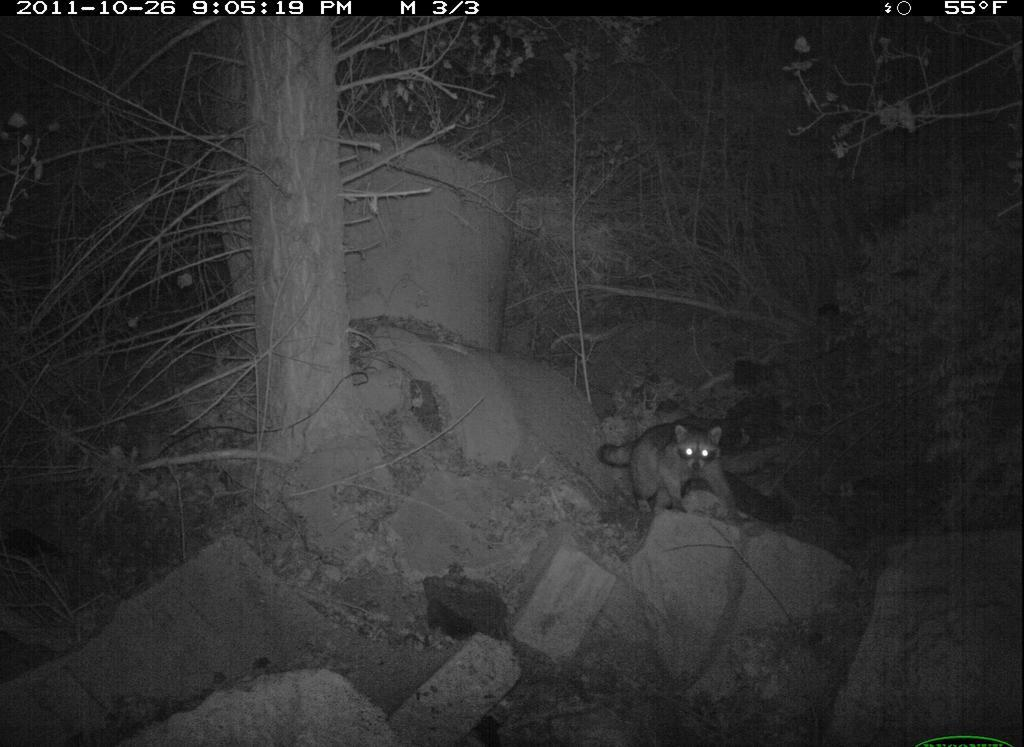raccoon: (600, 413, 749, 539)
